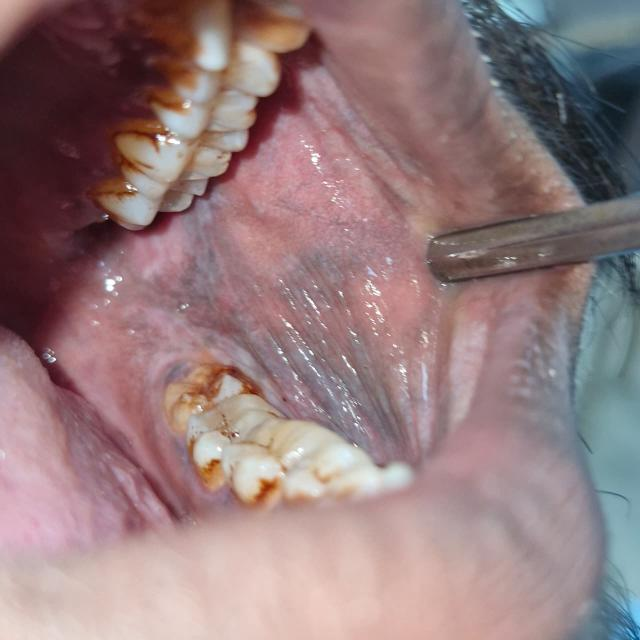leukoplakia-detection: (102, 189, 515, 461), (53, 383, 188, 543)
processing_area: (0, 55, 523, 541)
